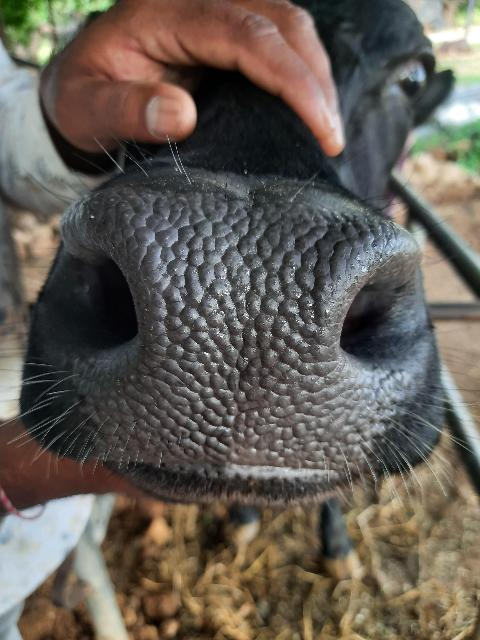Muzzle: (81, 188, 389, 470)
